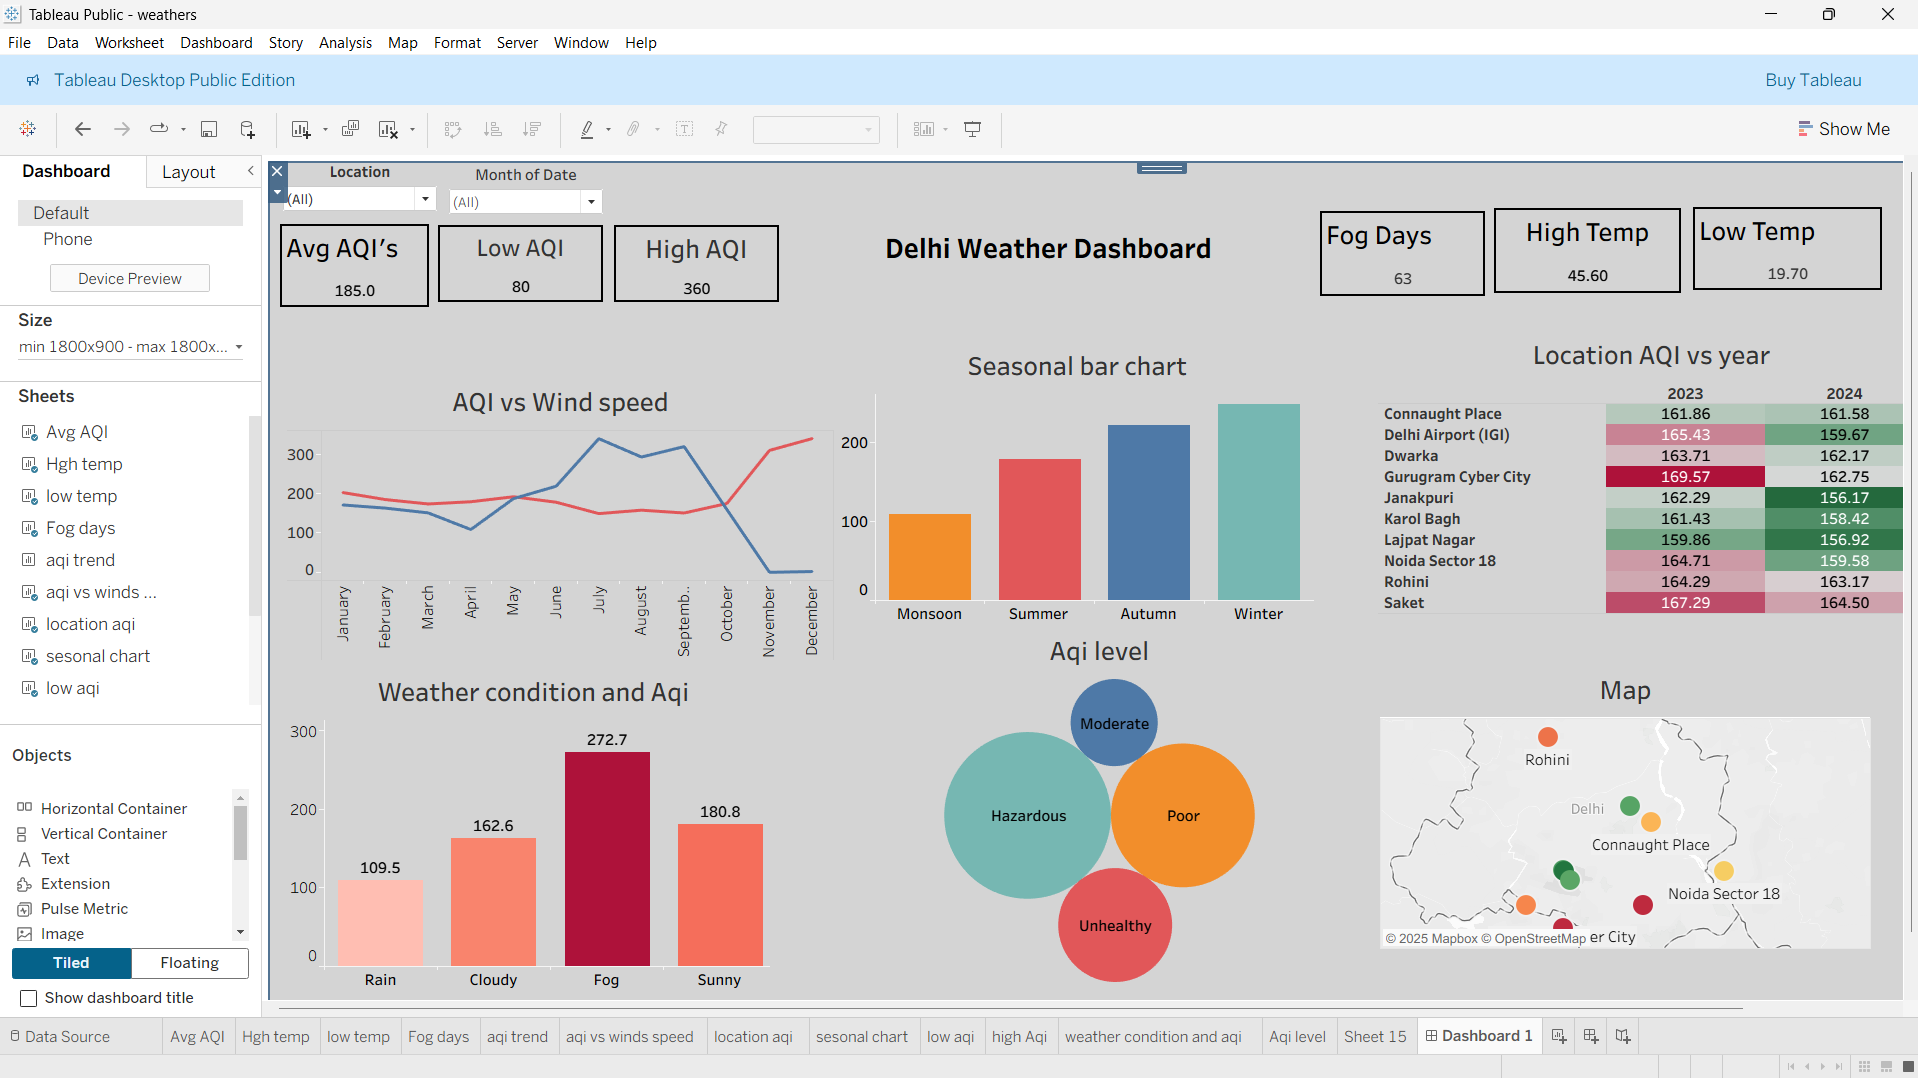

What the dashboard file says about the page in this screenshot:
{"tool":"tableau","page":{"name":"Dashboard 1","canvas":[1800,900],"ordinal":0},"visuals":[{"type":"filter","title":"location aqi ","param":"[federated.1r7lm0v1pa2pcg11sqvvv131wcmp].[none:Location:nk]","box":[18,6,160,57]},{"type":"filter","title":"aqi vs winds speed","param":"[federated.1r7lm0v1pa2pcg11sqvvv131wcmp].[mn:Date:ok]","box":[184,9,160,53]},{"type":"text","box":[519,41,535,102]},{"type":"worksheet","title":"low temp","mark":"Automatic","box":[1431,52,189,83]},{"type":"worksheet","title":"Hgh temp","mark":"Automatic","box":[1232,53,187,85]},{"type":"worksheet","title":"Fog days","mark":"Automatic","box":[1058,56,165,85]},{"type":"worksheet","title":"Avg AQI","mark":"Automatic","box":[18,69,149,83]},{"type":"worksheet","title":"low aqi","mark":"Automatic","box":[176,70,165,77]},{"type":"worksheet","title":"high Aqi","mark":"Automatic","box":[352,70,165,77]},{"type":"worksheet","title":"location aqi ","mark":"Square","rows":["Location"],"cols":["Date"],"box":[1116,178,547,281]},{"type":"worksheet","title":"sesonal chart","mark":"Automatic","rows":["AQI"],"cols":["Season"],"box":[579,189,473,281]},{"type":"worksheet","title":"aqi vs winds speed","mark":"Automatic","rows":["AQI","Wind Speed (km/h)"],"cols":["Date"],"box":[25,225,547,281]},{"type":"worksheet","title":"Aqi level","mark":"Circle","box":[508,474,659,353]},{"type":"worksheet","title":"Sheet 15","mark":"Automatic","box":[1118,513,491,281]},{"type":"worksheet","title":"weather condition and aqi ","mark":"Automatic","rows":["AQI"],"cols":["Weather Condition"],"box":[28,515,487,321]}]}

Visuals, with their boxes on the page's 1800x900 design canvas (x1, y1, x2, y2). These are canvas units, not pixel positions in the 1918x1078 screenshot, which may show the page scaled, cropped or inside an application window:
"location aqi " filter: select_region(18, 6, 178, 63)
"aqi vs winds speed" filter: select_region(184, 9, 344, 62)
text: select_region(519, 41, 1054, 143)
"low temp" worksheet: select_region(1431, 52, 1620, 135)
"Hgh temp" worksheet: select_region(1232, 53, 1419, 138)
"Fog days" worksheet: select_region(1058, 56, 1223, 141)
"Avg AQI" worksheet: select_region(18, 69, 167, 152)
"low aqi" worksheet: select_region(176, 70, 341, 147)
"high Aqi" worksheet: select_region(352, 70, 517, 147)
"location aqi " worksheet (Square marks): select_region(1116, 178, 1663, 459)
"sesonal chart" worksheet: select_region(579, 189, 1052, 470)
"aqi vs winds speed" worksheet: select_region(25, 225, 572, 506)
"Aqi level" worksheet (Circle marks): select_region(508, 474, 1167, 827)
"Sheet 15" worksheet: select_region(1118, 513, 1609, 794)
"weather condition and aqi " worksheet: select_region(28, 515, 515, 836)
